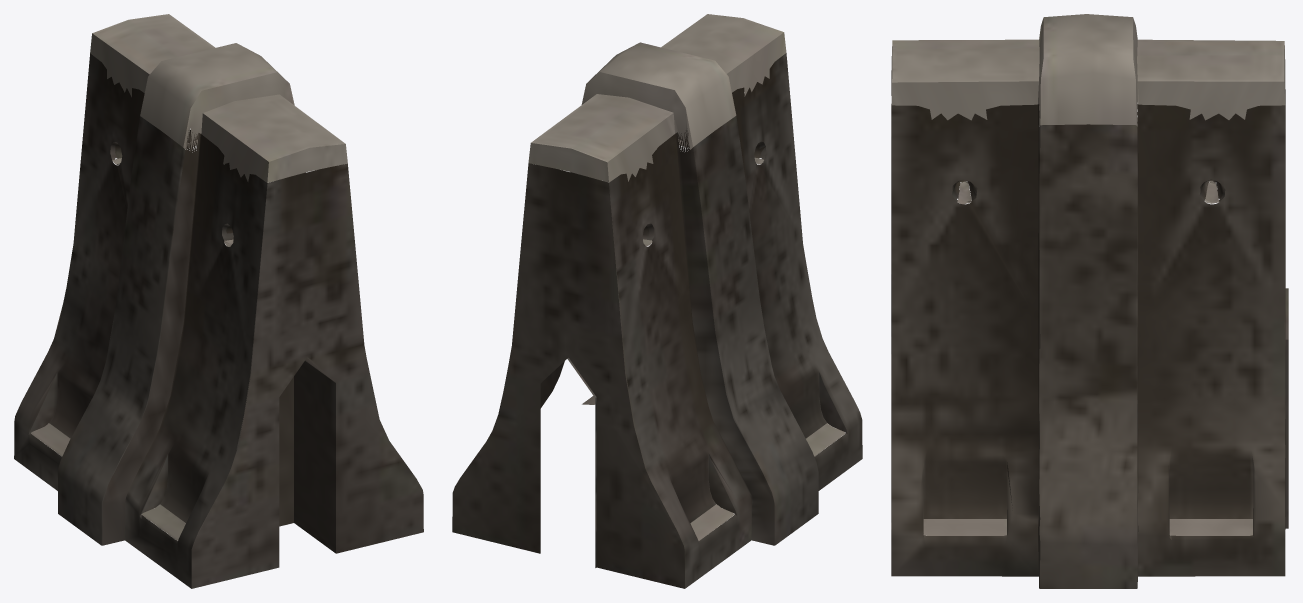
Rendered from stone-wall-ns.glb.
3 renders of one model, left to right at view 1: azimuth 30°, elevation 25°; view 2: azimuth 150°, elevation 25°; view 3: azimuth 270°, elevation 25°, orthographic. The views are drawn at different scales.
Visible parts, largest first — view 1: body; view 2: body; view 3: body.
Part boxes in pixels (x1,y1,x2,y2): body: (14,14,423,588); body: (452,14,862,588); body: (891,14,1288,588).
Size of the model in its own units: 0.8916 by 1.33 by 0.9921.
Materials: 1 (1 with a texture image).
